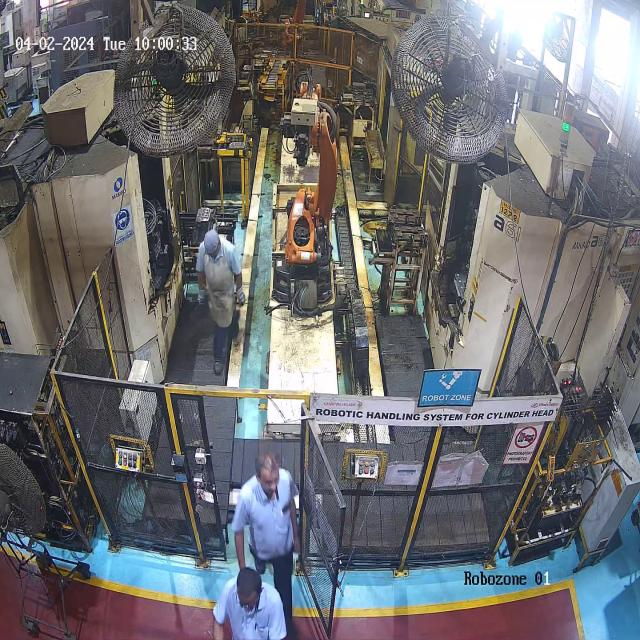person: (232, 452, 300, 567), (195, 229, 246, 375), (210, 567, 287, 640)
